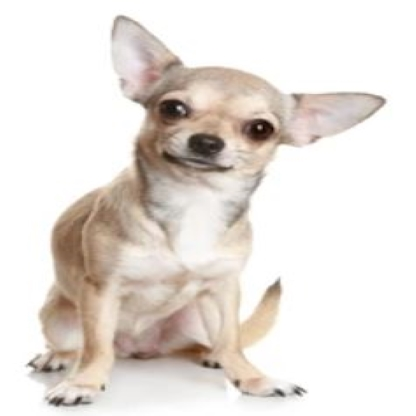chihuahua: (26, 13, 388, 411)
